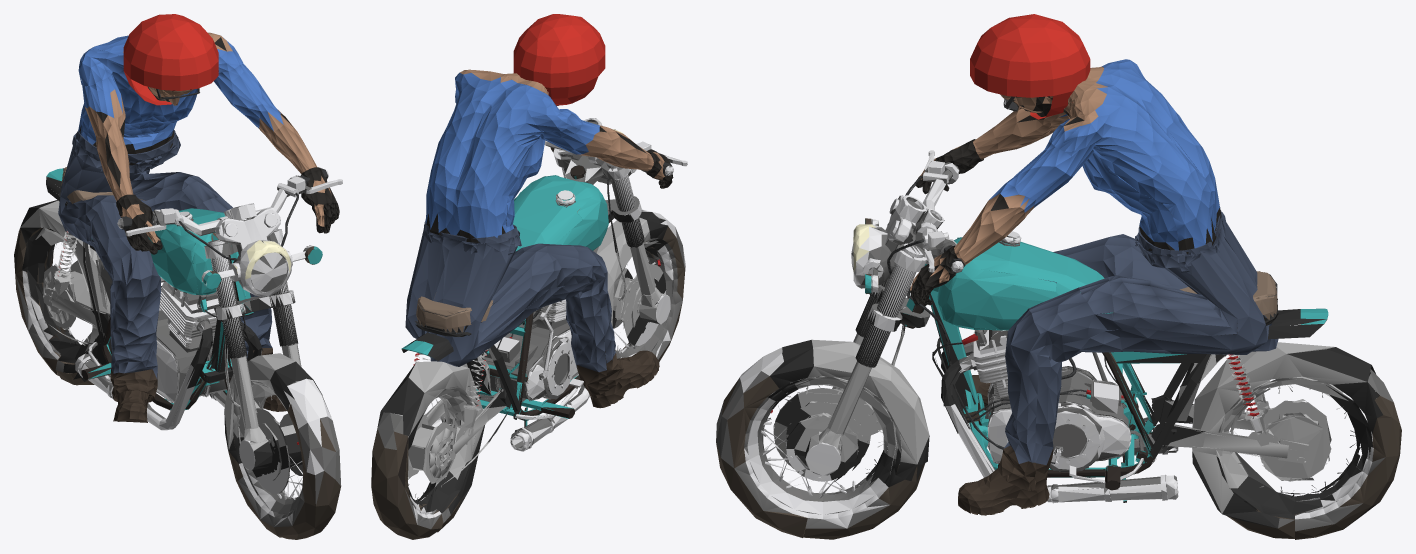
The model's file is motorcycle.glb.
3 renders of one model, left to right at view 1: azimuth 30°, elevation 25°; view 2: azimuth 150°, elevation 25°; view 3: azimuth 270°, elevation 25°, orthographic. The views are drawn at different scales.
Visible parts, largest first — view 1: rider, body, wheel_front, wheel_rear; view 2: rider, body, wheel_rear, wheel_front; view 3: rider, body, wheel_rear, wheel_front.
Part boxes in pixels (x1,y1,x2,y2): rider: (58, 14, 339, 422); body: (14, 167, 342, 539); wheel_front: (184, 257, 322, 477); wheel_rear: (20, 176, 112, 381); rider: (405, 14, 673, 408); body: (371, 118, 687, 539); wheel_rear: (377, 319, 525, 514); wheel_front: (562, 168, 670, 345); rider: (910, 14, 1278, 515); body: (716, 150, 1401, 539); wheel_rear: (1116, 298, 1382, 528); wheel_front: (767, 243, 975, 487).
Size of the model in its own units: 0.8182 by 1.63 by 2.
